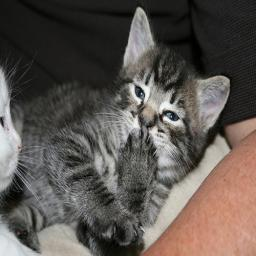catnose: (138, 109, 156, 131)
